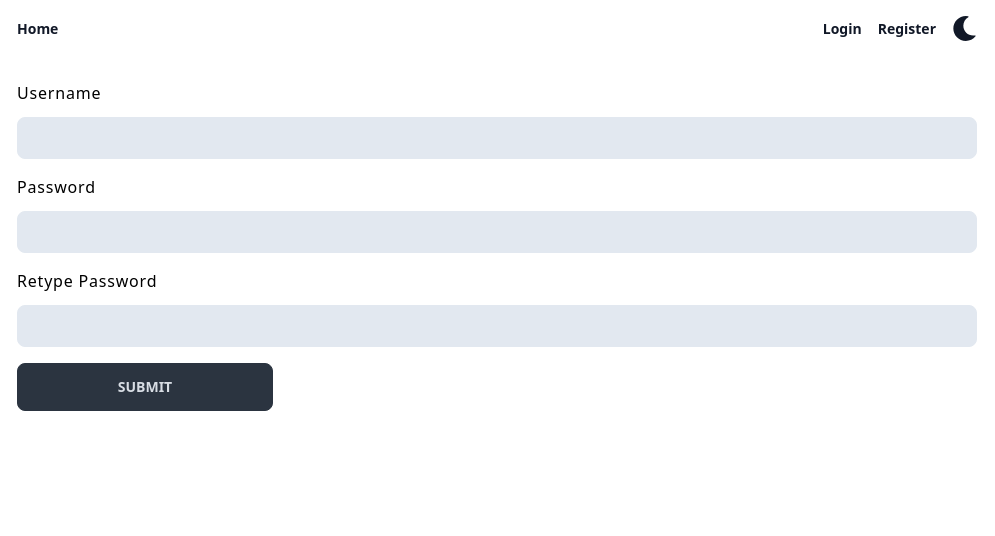
Test: Register Page › Action for Register › should show error message when some of input is missing a value
What coordinates should you click on to do the following:
click the button with aria-label "btn-submit"
I would click on:
 (145, 387)
Its box is left=17, top=363, right=273, bottom=411.
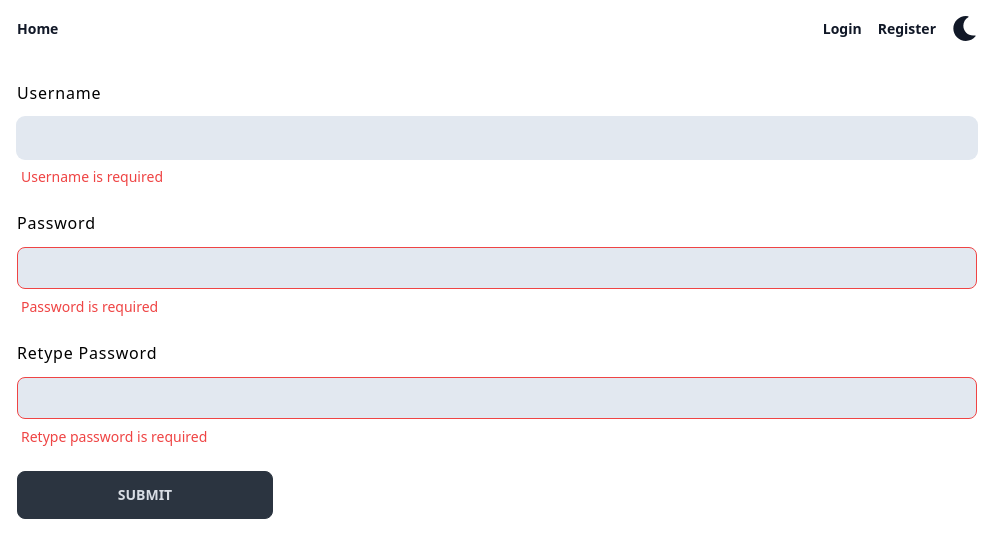
Now the text "Username is required" is shown, box left=21, top=167, right=163, bottom=187
Now the text "Password is required" is shown, box left=21, top=297, right=158, bottom=317
Now the text "Retype password is required" is shown, box left=21, top=427, right=207, bottom=447
